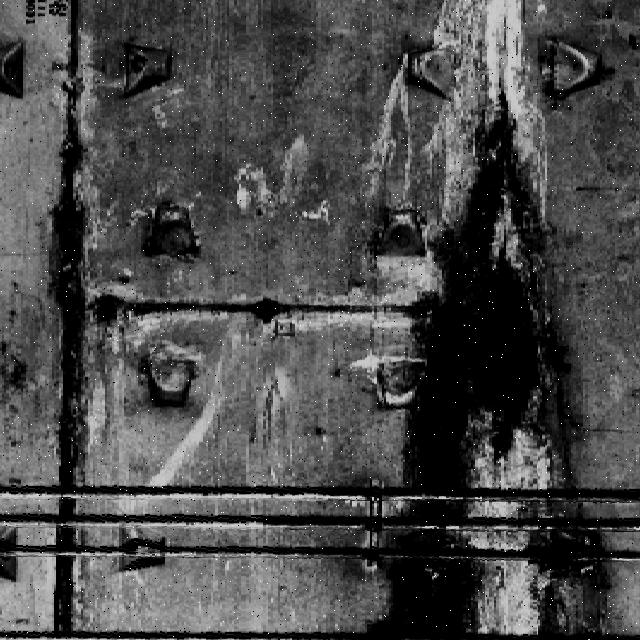leakage: (364, 0, 617, 639), (34, 34, 118, 639)
